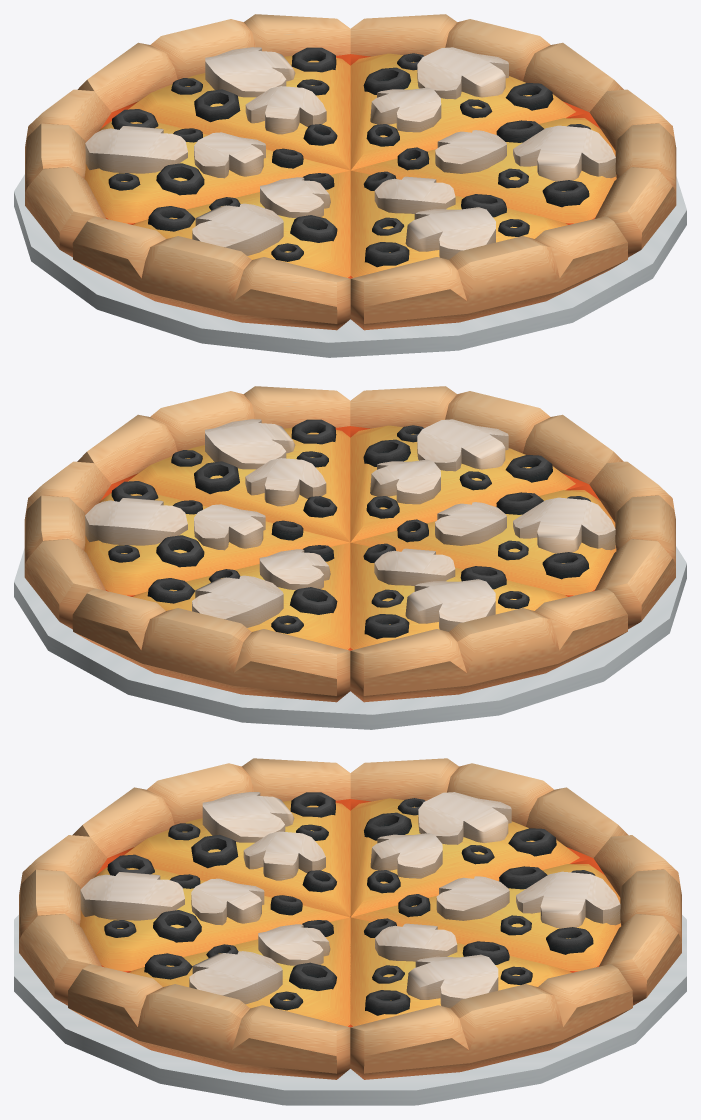
File: food_pizza_mushroom_plated.gltf
3 views of the same model, one above another, from view 1: azimuth 30°, elevation 25°; view 2: azimuth 150°, elevation 25°; view 3: azimuth 270°, elevation 25° (orthographic).
Parts seen in each view (by area): view 1: food_pizza_mushroom_plated; view 2: food_pizza_mushroom_plated; view 3: food_pizza_mushroom_plated.
Part boxes in pixels (box(x1,y1,x2,y2)): food_pizza_mushroom_plated: box(14, 14, 686, 357); food_pizza_mushroom_plated: box(14, 386, 686, 729); food_pizza_mushroom_plated: box(14, 758, 686, 1105).
Bounding box in the file's own units: 2 × 0.3 × 2.
Materials: 1 (1 with a texture image).
